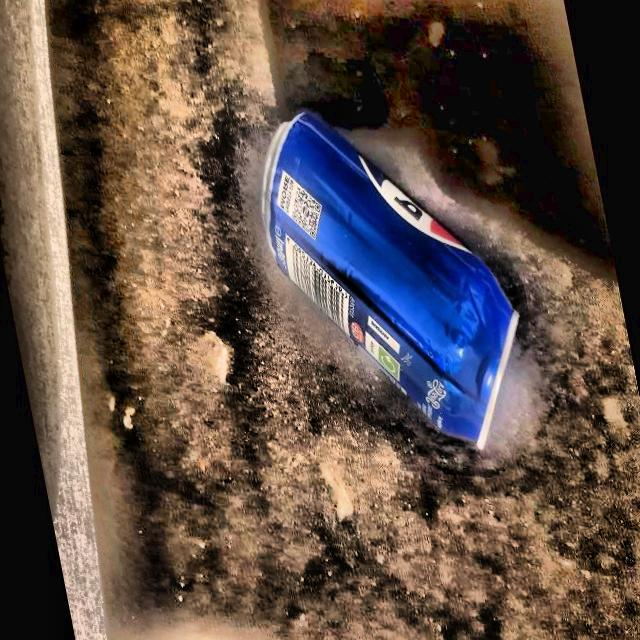pepsi-can: (257, 110, 523, 449)
